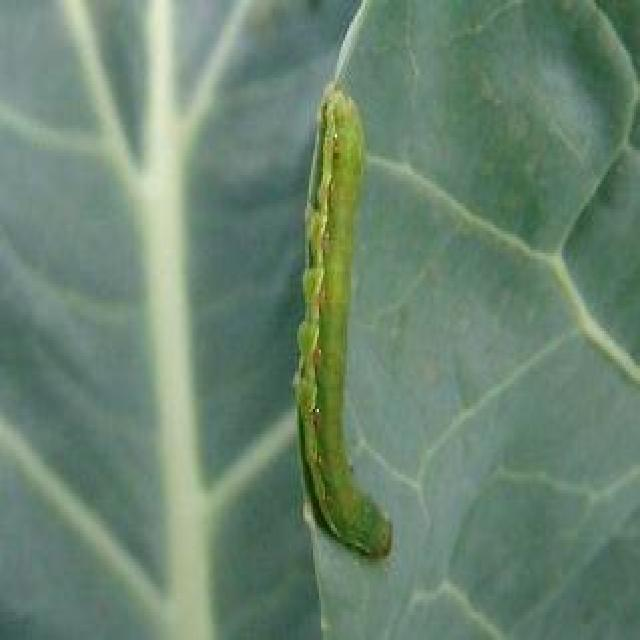BeetArmyWorm-Larva-: (292, 73, 402, 568)
